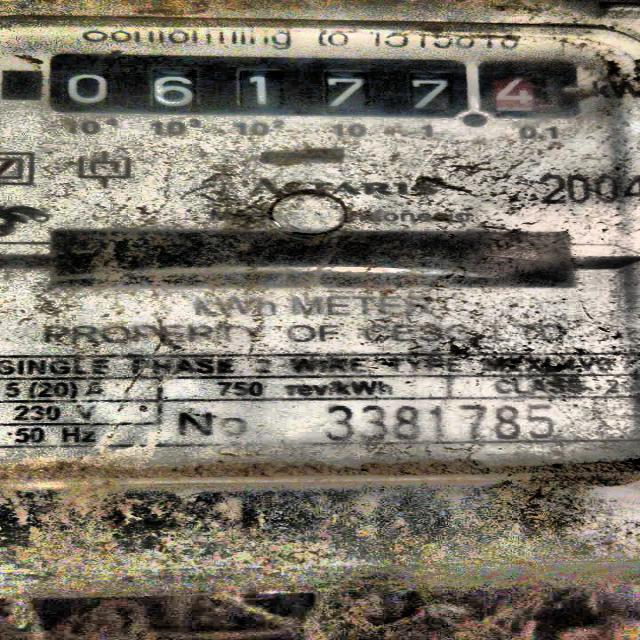Analog: (0, 2, 640, 603)
Reading: (60, 58, 567, 117)
Serial No.: (318, 404, 578, 440)
